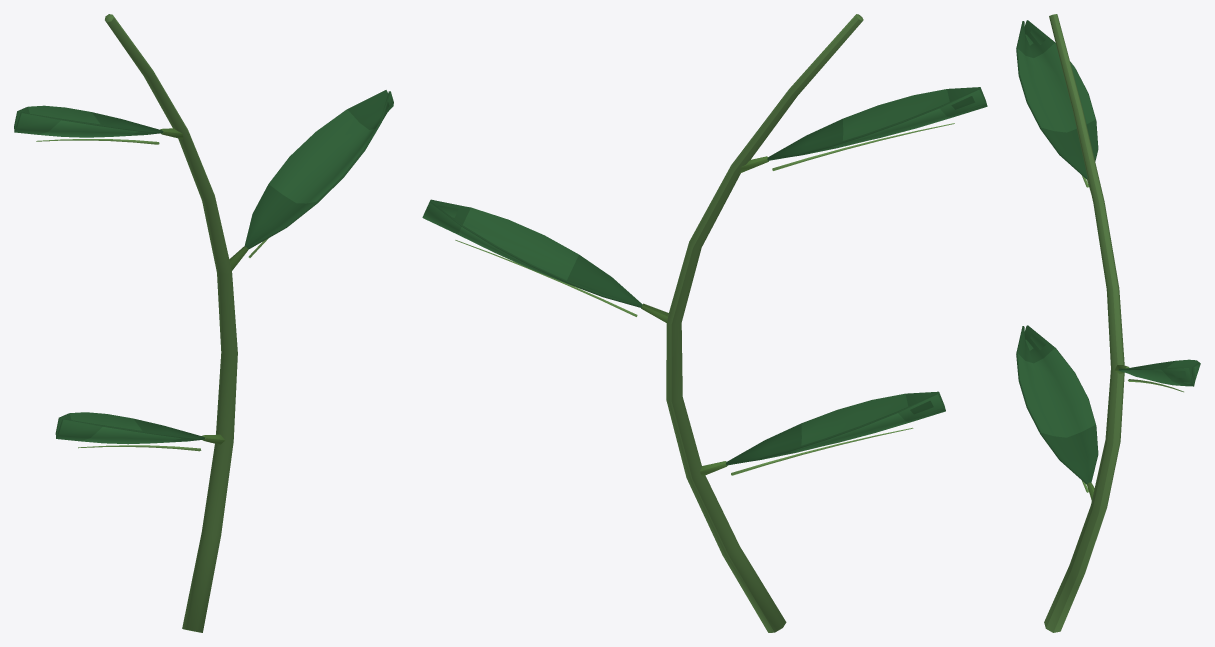
File: garden-zinnia-bloom-stem-3.glb
3 renders of one model, left to right at view 1: azimuth 30°, elevation 25°; view 2: azimuth 150°, elevation 25°; view 3: azimuth 270°, elevation 25°, orthographic. The views are drawn at different scales.
Visible parts, largest first — view 1: zinnia-bloom-stem-3; view 2: zinnia-bloom-stem-3; view 3: zinnia-bloom-stem-3.
Boxes of the visible parts, bbox=[...] form: zinnia-bloom-stem-3: bbox=[14, 14, 393, 632]; zinnia-bloom-stem-3: bbox=[422, 14, 987, 632]; zinnia-bloom-stem-3: bbox=[1016, 14, 1200, 632].
Bounding box in the file's own units: 0.3525 × 0.455 × 0.1314.
